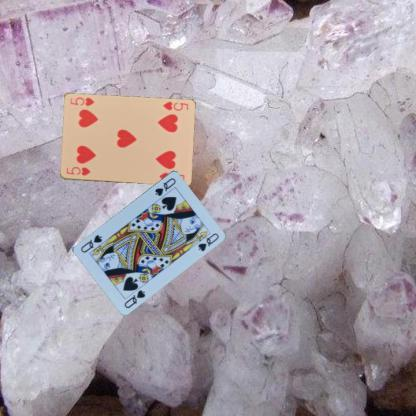5h: (160, 99, 189, 112), (64, 164, 91, 177)
Qs: (152, 175, 178, 197), (121, 287, 147, 309)
